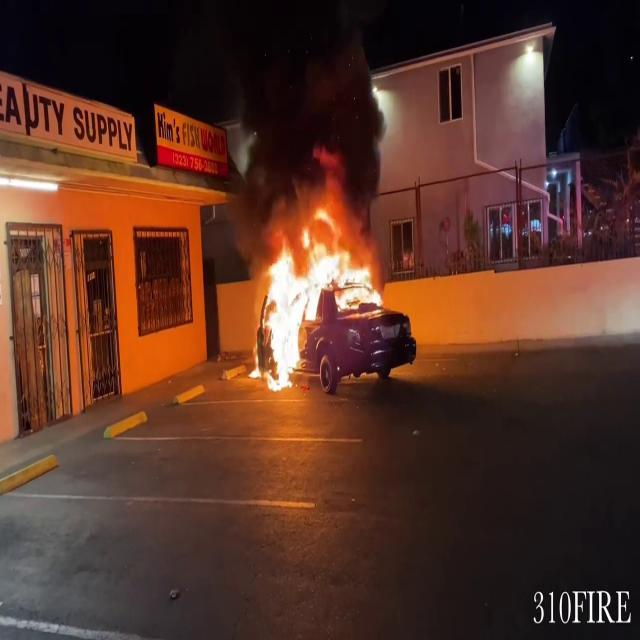Fire: (247, 204, 389, 390)
